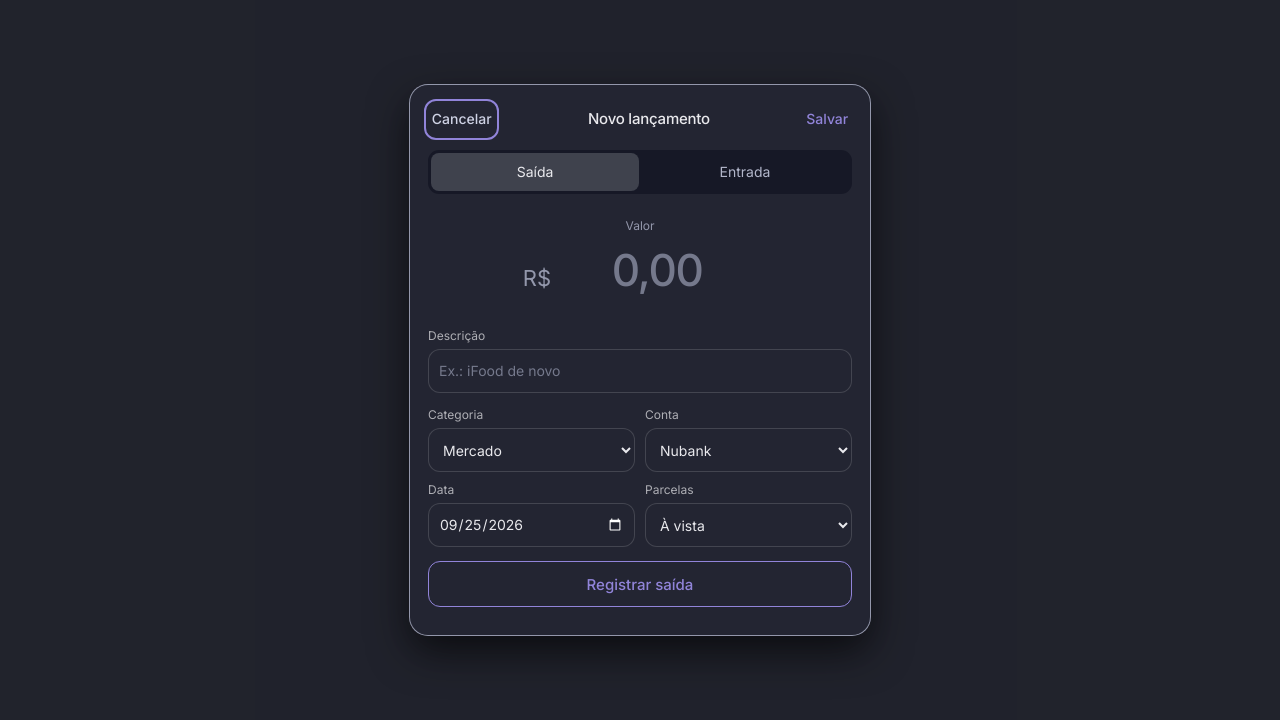
Test: TransactionDialog › valida valor e descrição na ordem do protótipo
Click the button "Registrar saída": [640, 584] box [428, 561, 852, 607]
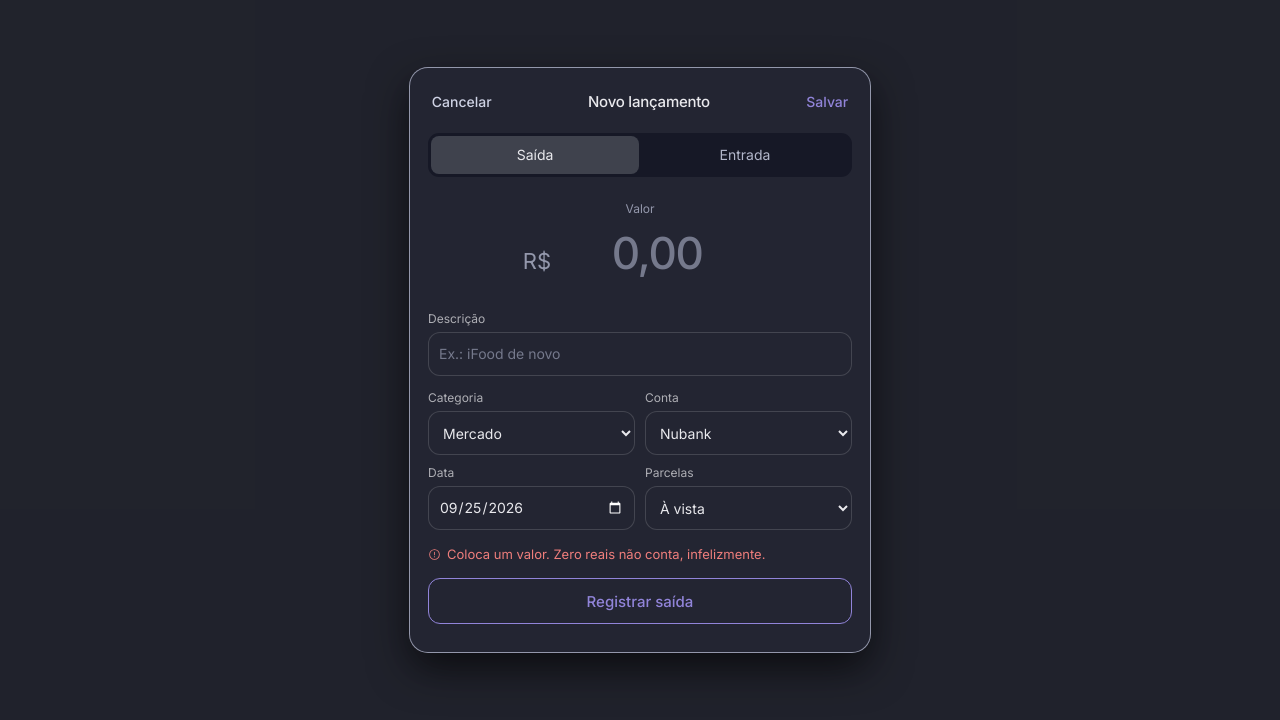
expect the message reads "Coloca um valor. Zero reais não conta, infelizmente.": met, box [447, 546, 766, 562]
In the field labelled "Valor": [657, 253] box [557, 219, 757, 287], type "10"
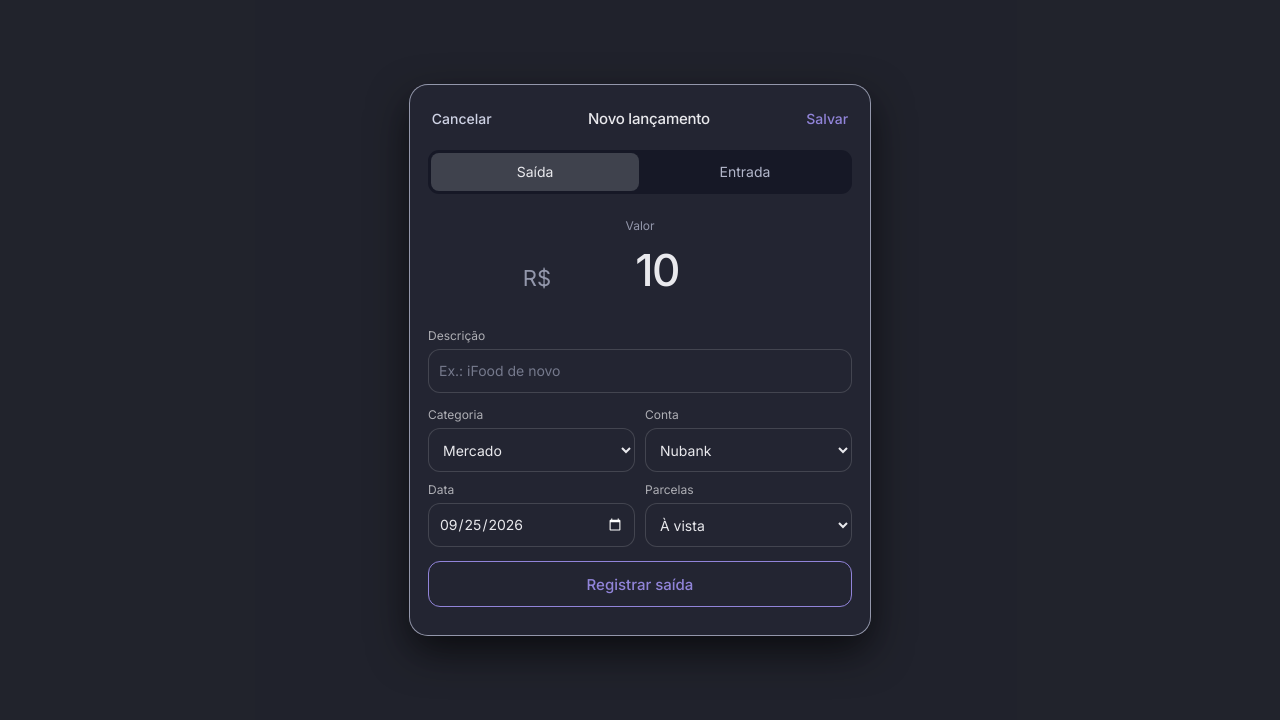
Click the button "Registrar saída": [640, 584] box [428, 561, 852, 607]
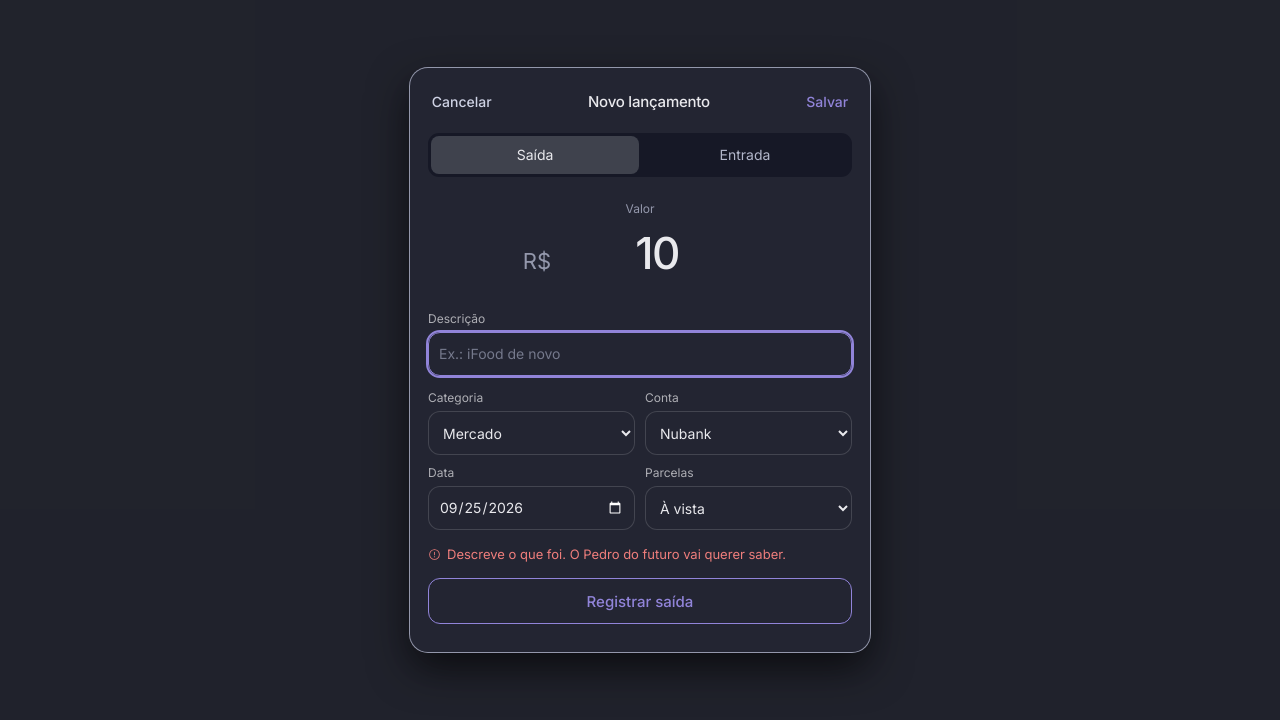
expect the message reads "Descreve o que foi. O Pedro do futuro vai querer saber.": met, box [447, 546, 786, 562]
